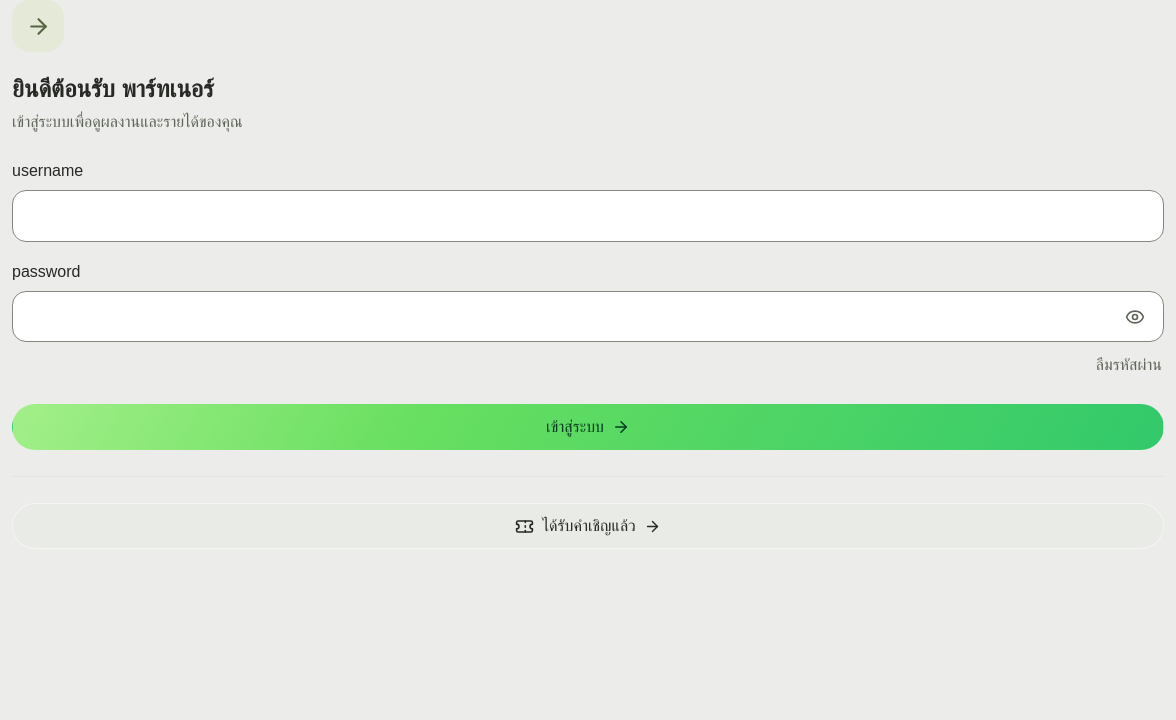
Test: invitation credential forms › login uses password-manager fields, preserves literal password and shows generic failure
This screenshot has width=1176, height=720.
Type " Partner_Name " into the field labelled "username" at (588, 216), box [12, 190, 1164, 242]
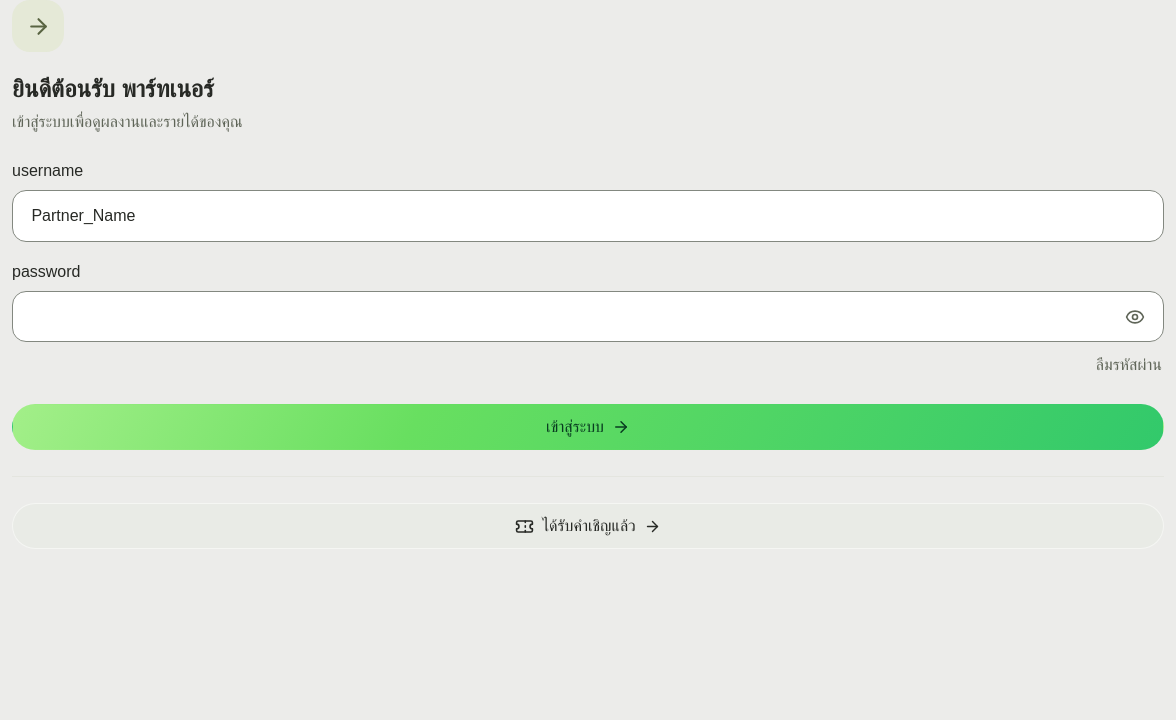
Type "  literal password  " into the password field labelled "password" at (588, 317), box [12, 291, 1164, 342]
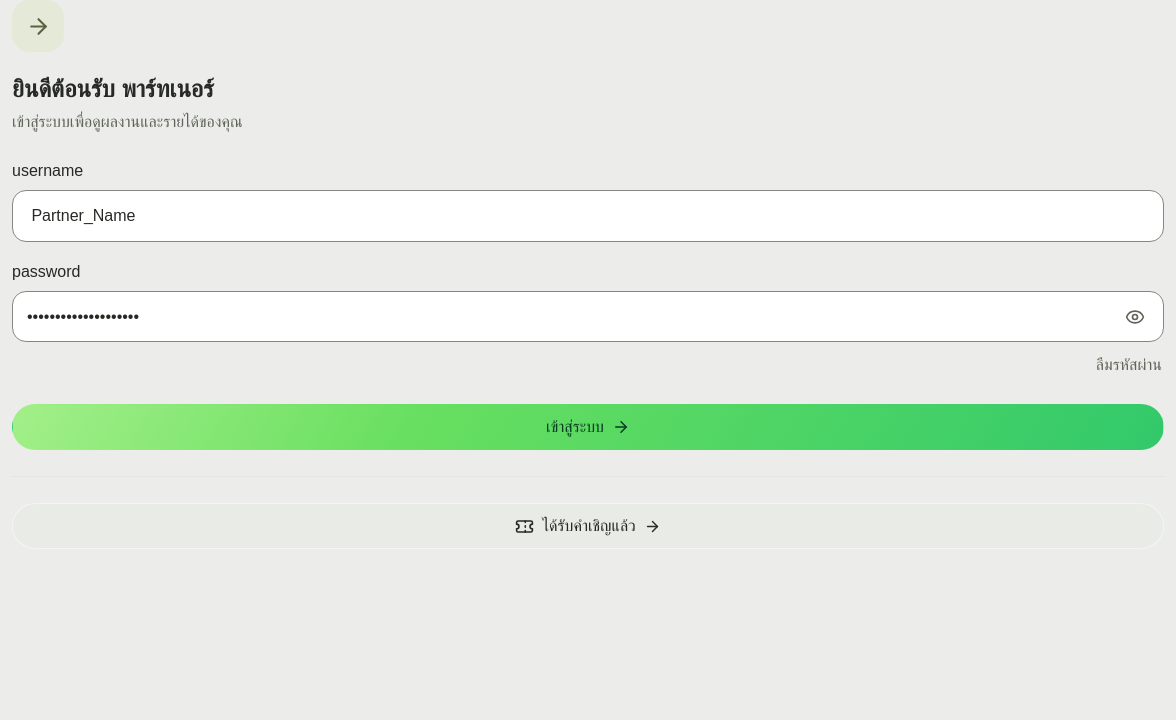
Click the button named "แสดงpassword" at (1135, 317), box [1112, 294, 1158, 340]
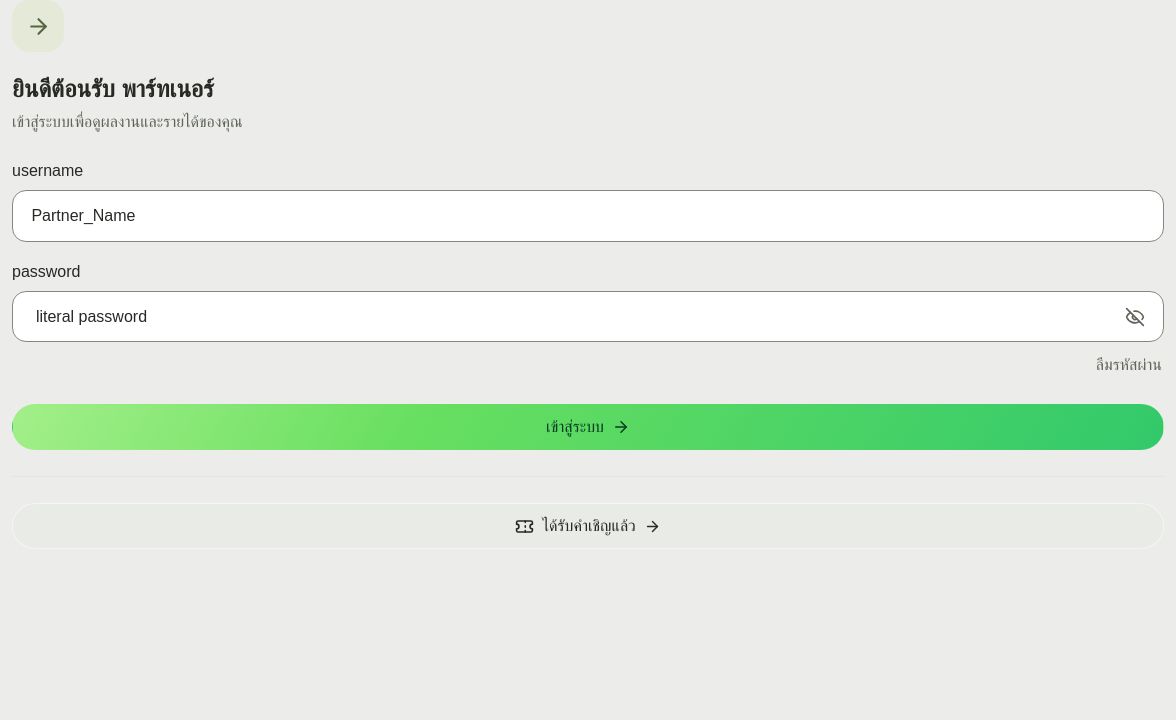
Check: the field labelled "password" shows its text, box [12, 291, 1164, 342]
Submit the form "เข้าสู่ระบบ", box [12, 160, 1164, 450]
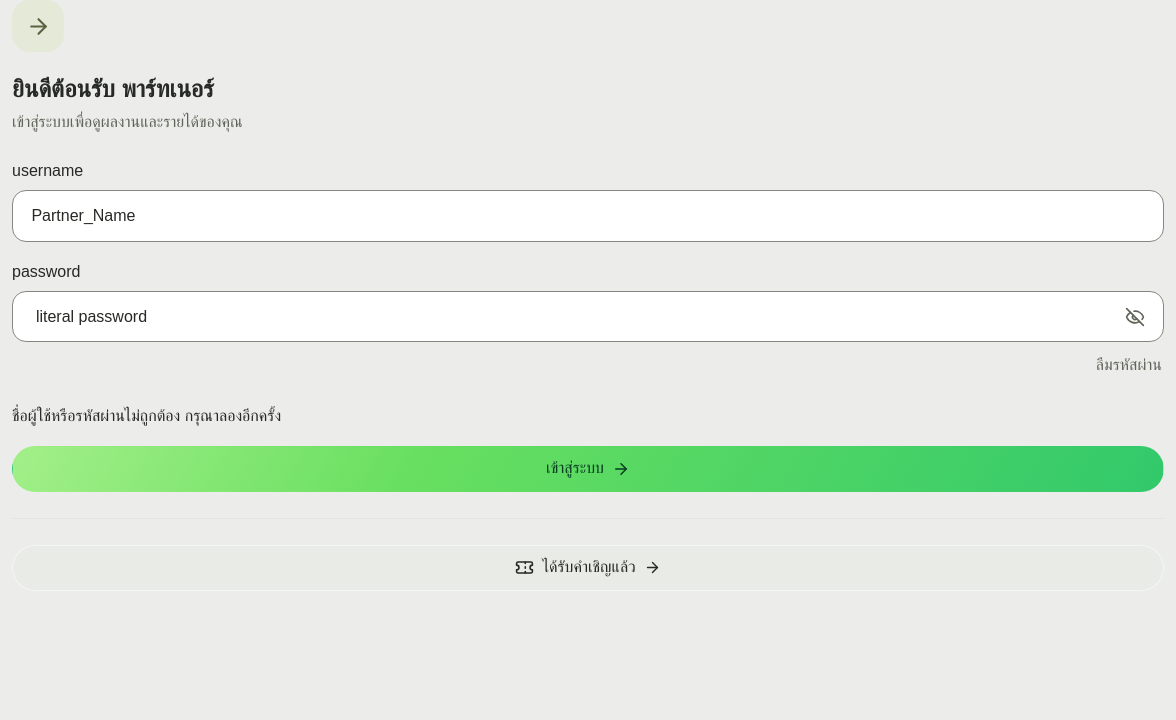
Check: the message does not show "internal-secret", box [12, 407, 281, 424]
Click the button "ลืมรหัสผ่าน" at (1129, 364), box [1094, 342, 1164, 386]
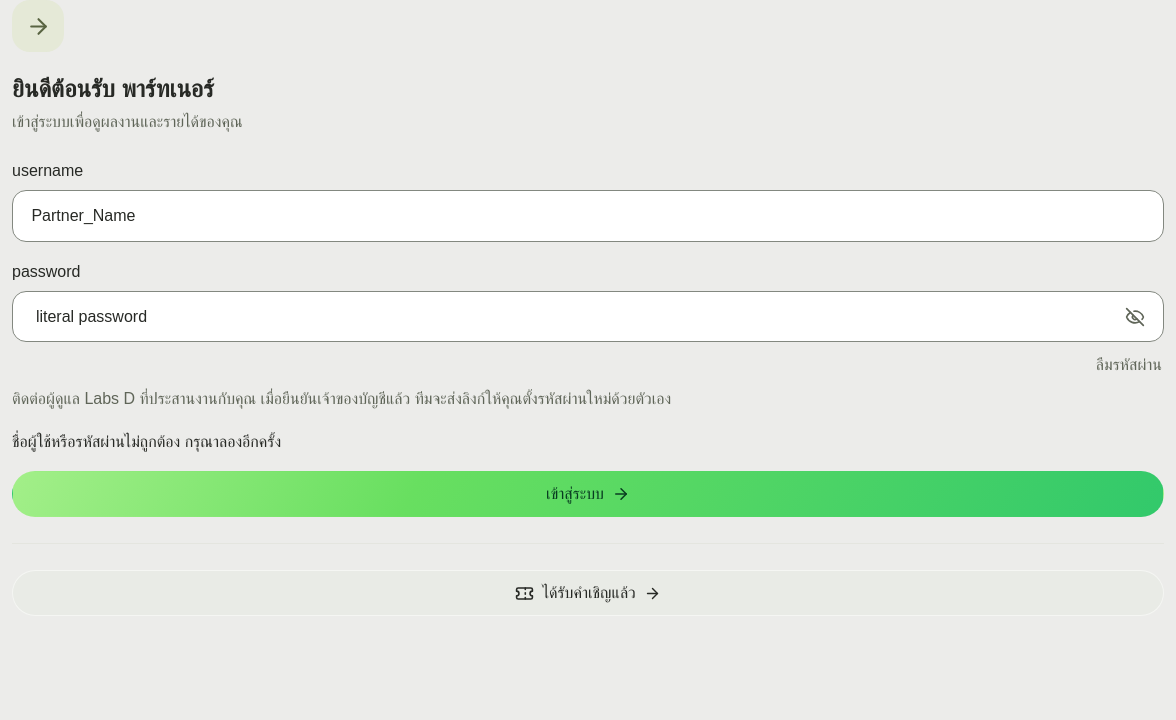
Check: the text "ยืนยันเจ้าของบัญชี" is shown, box [12, 390, 671, 407]
